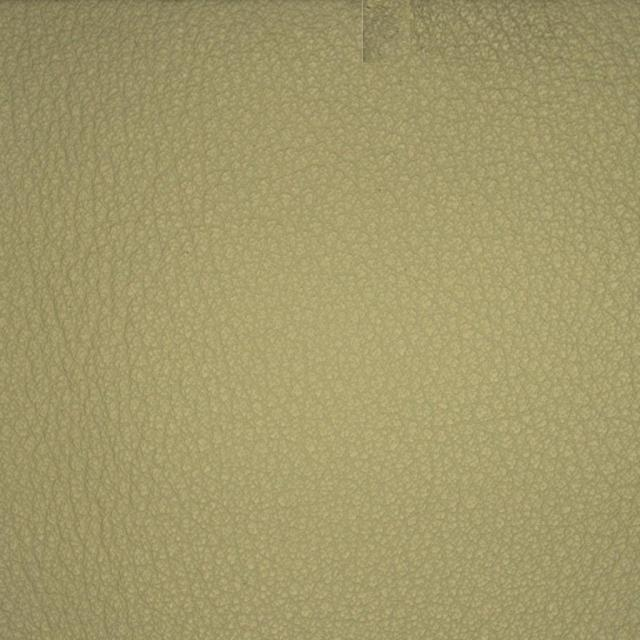Healed Injury: (321, 6, 467, 167)
